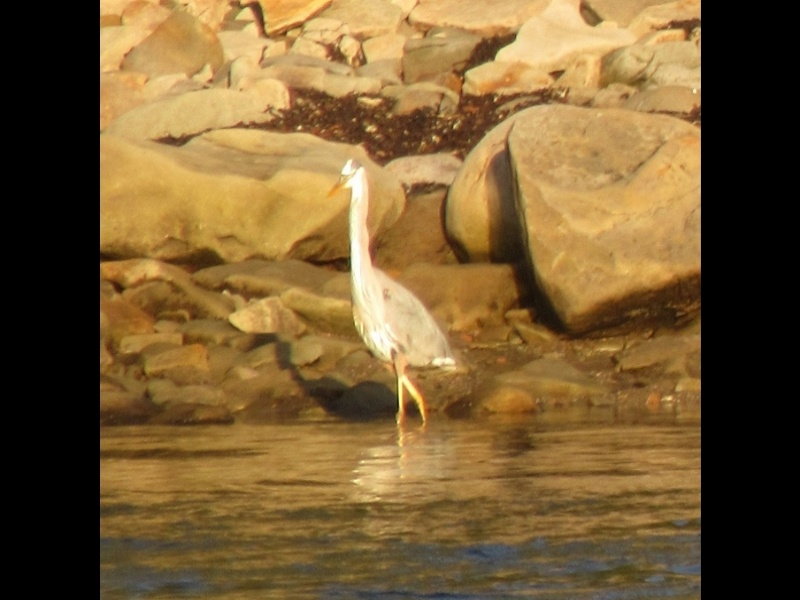heron: (326, 155, 458, 426)
